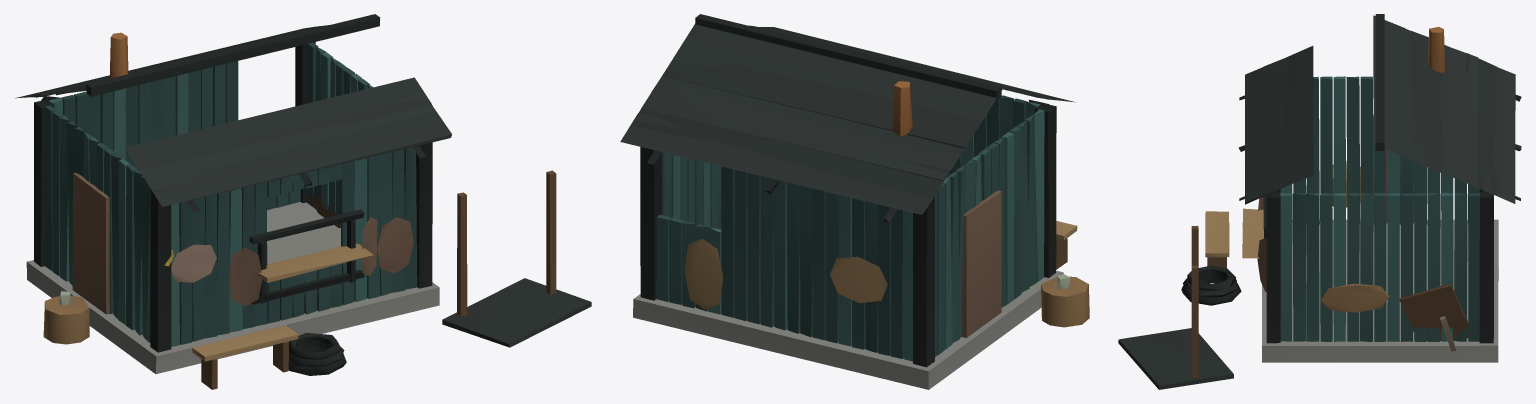
Rendered from billing_booth_c_lod2.glb.
The picture shows the model from 3 angles, left to right: view 1: azimuth 30°, elevation 25°; view 2: azimuth 150°, elevation 25°; view 3: azimuth 270°, elevation 25°; orthographic projection. The views are drawn at different scales.
Visible parts, largest first — view 1: Surface.001; view 2: Surface.001; view 3: Surface.001.
Part boxes in pixels (x1,y1,x2,y2): Surface.001: [15, 14, 591, 389]; Surface.001: [620, 14, 1089, 389]; Surface.001: [1118, 14, 1521, 389].
Bounding box in the file's own units: 7.49 × 4.09 × 6.44.
